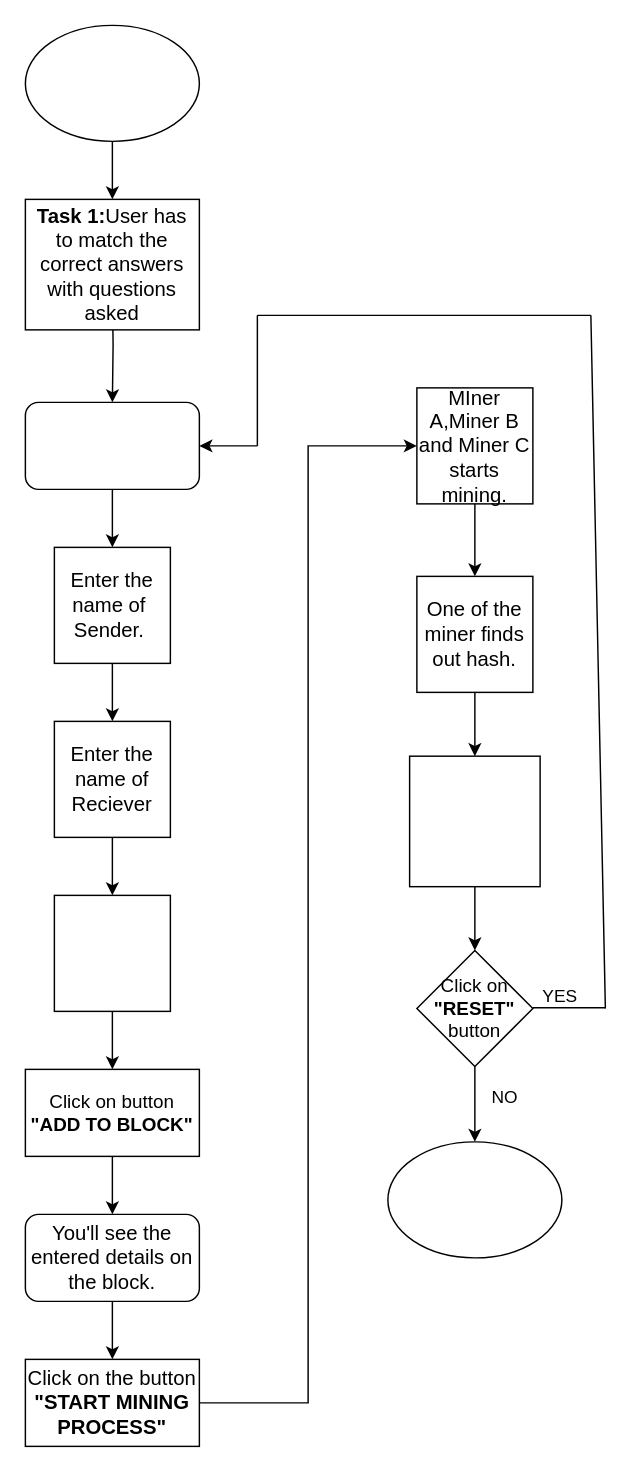
This 632x1472 diagram has some shape labels left out. Each missing label, with the centre of its shape:
"After one miner calculates hash other two miners confirms." goes at [474,821].
"END" goes at [474,1199].
"Enter the amount to be sent." goes at [111,952].
"Opens Mining Page" goes at [111,445].
"START" goes at [111,82].
